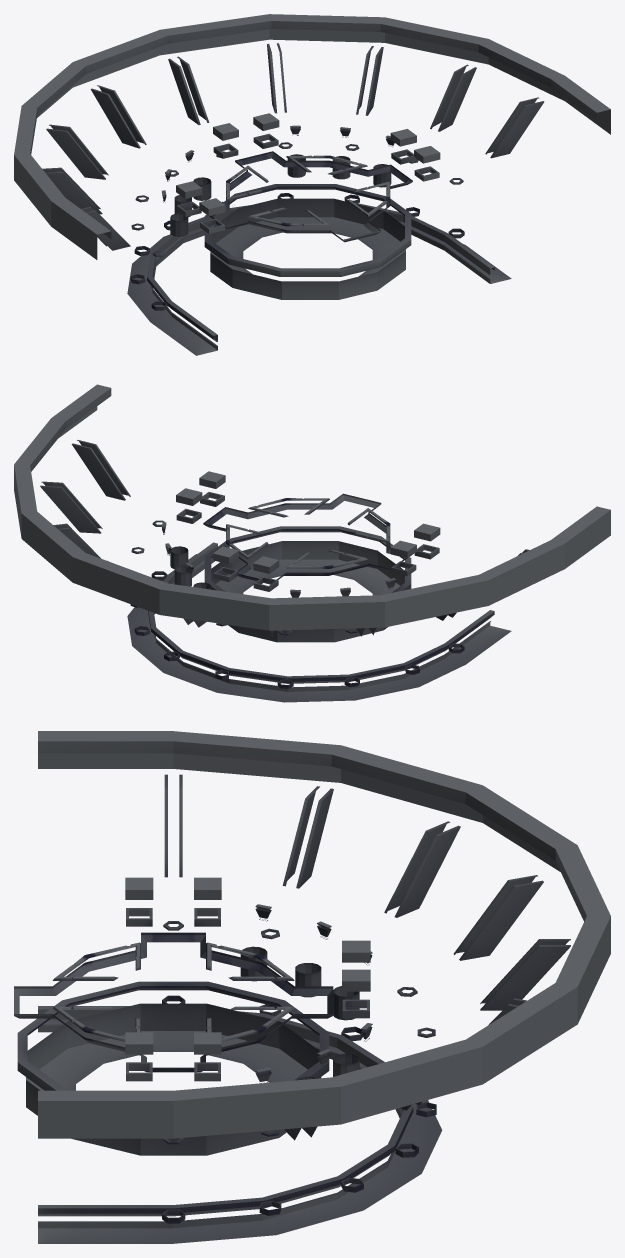
File: Ground_07.FBX
3 views of the same model, one above another, from view 1: azimuth 30°, elevation 25°; view 2: azimuth 150°, elevation 25°; view 3: azimuth 270°, elevation 25° (orthographic). The views are drawn at different scales.
Visible parts, largest first — view 1: Ground_07; view 2: Ground_07; view 3: Ground_07.
Boxes of the visible parts, bbox=[...] form: Ground_07: bbox=[14, 14, 610, 355]; Ground_07: bbox=[14, 384, 610, 702]; Ground_07: bbox=[14, 731, 610, 1243].
Size of the model in its own units: 76.74 by 20.74 by 52.37.
